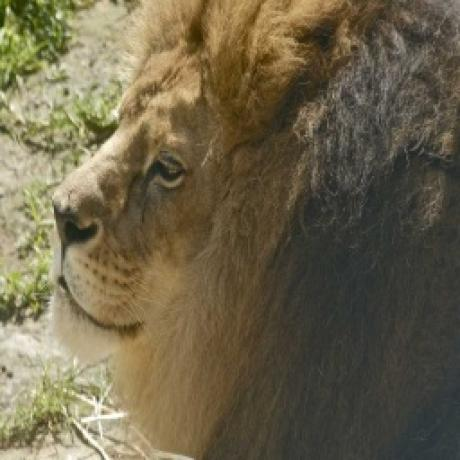Lion: (48, 0, 460, 460)
